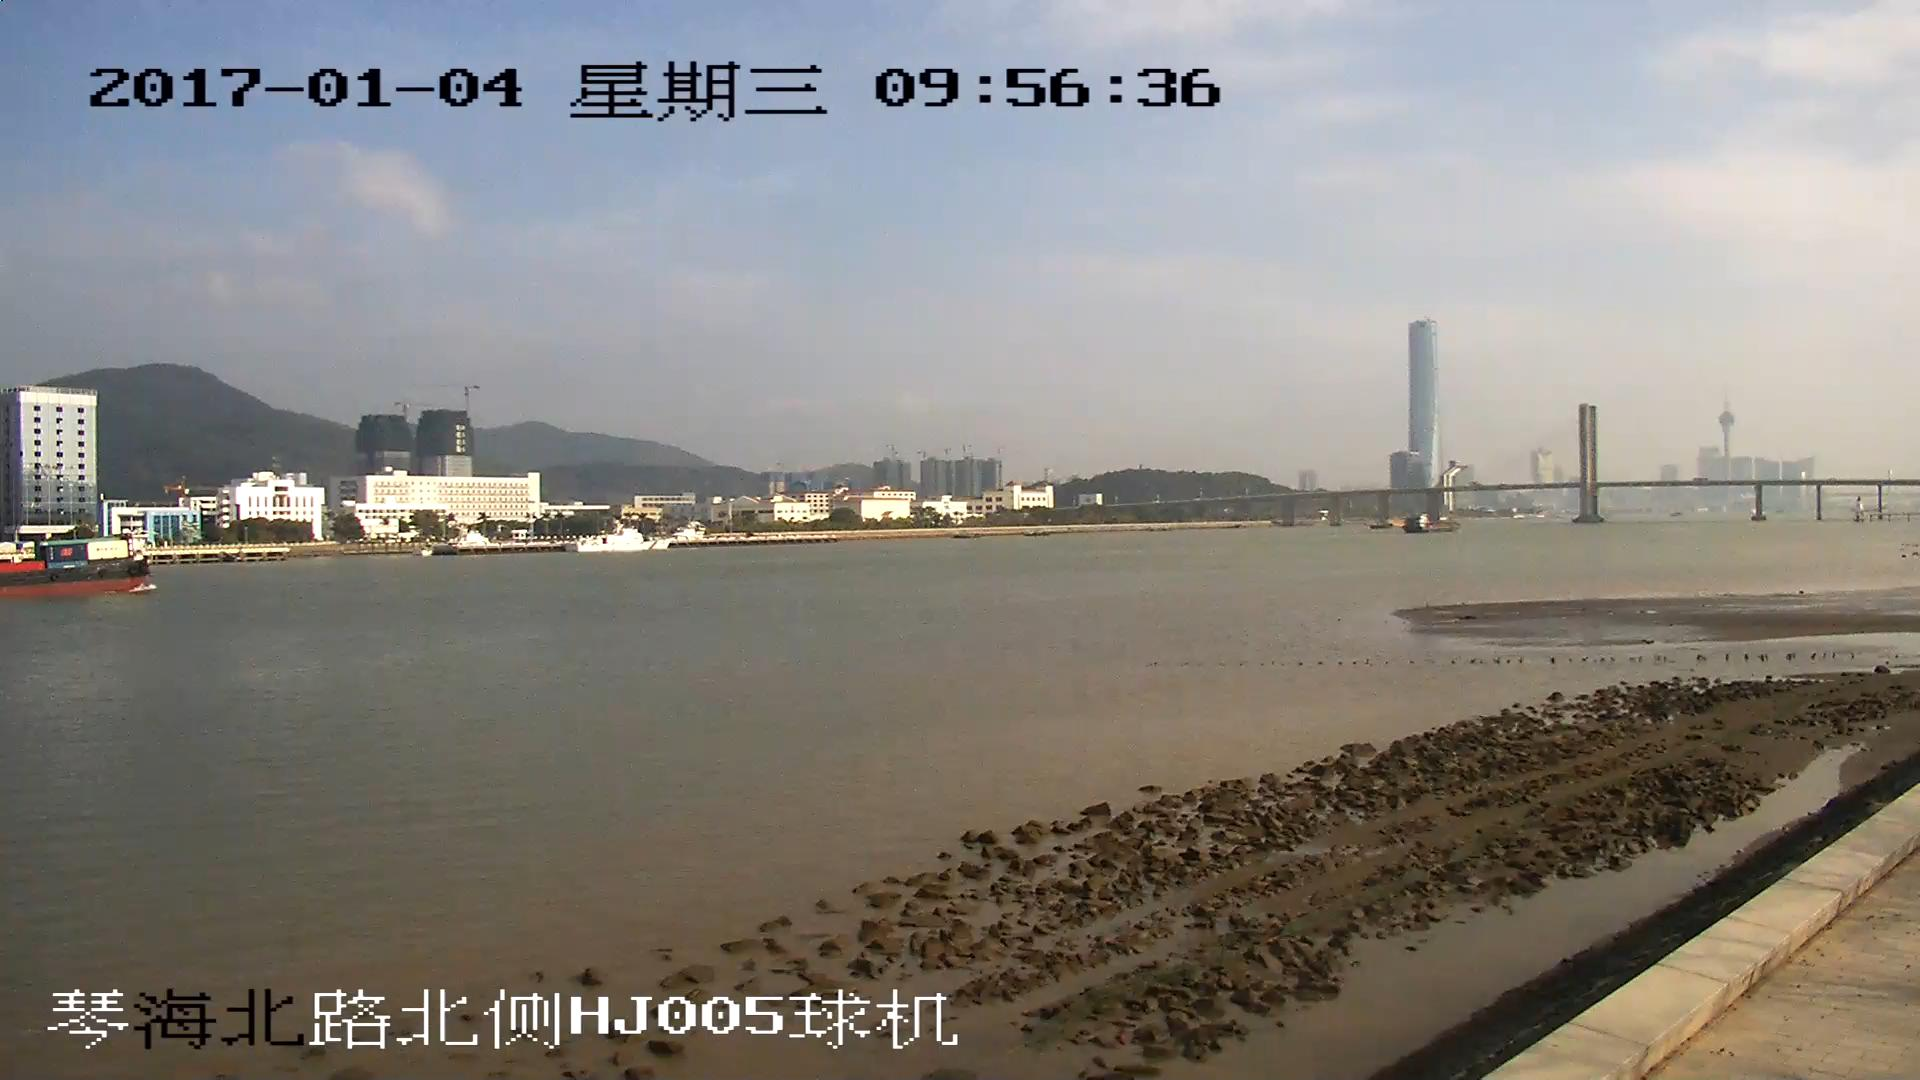container ship: (1, 537, 151, 594)
